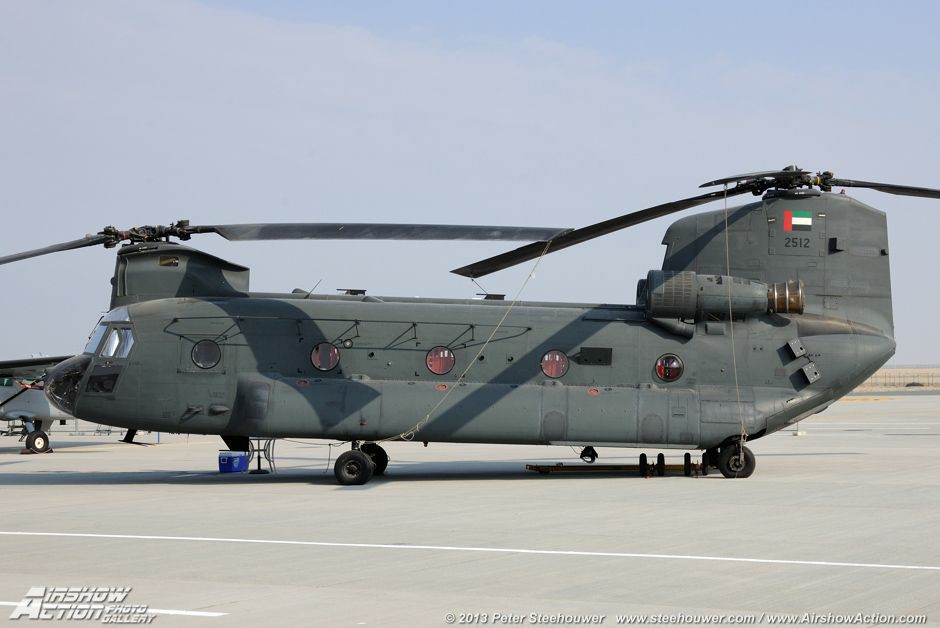chinook: (10, 168, 924, 480)
